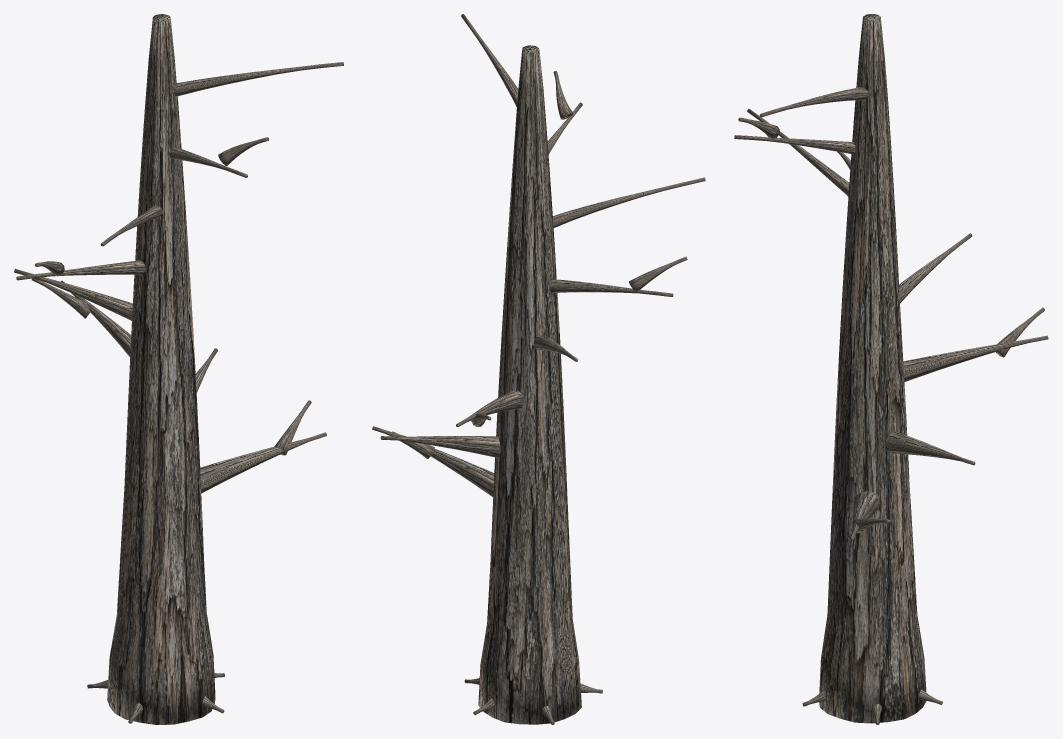
The model's file is upright-oak-v01.glb.
The picture shows the model from 3 angles, left to right: view 1: azimuth 30°, elevation 25°; view 2: azimuth 150°, elevation 25°; view 3: azimuth 270°, elevation 25°; orthographic projection. The views are drawn at different scales.
Visible parts, largest first — view 1: tronco vertical sem inclinação, galho firme ascendente, galho firme ascendente.007, galho firme ascendente.003, galho firme ascendente.004, galho firme ascendente.002, galho firme ascendente.006; view 2: tronco vertical sem inclinação, galho firme ascendente.001, galho firme ascendente.005, galho firme ascendente, galho firme ascendente.004, galho firme ascendente.002, galho firme ascendente.007; view 3: tronco vertical sem inclinação, galho firme ascendente.002, galho firme ascendente.001, galho firme ascendente.006, galho firme ascendente.007, galho firme ascendente.003, galho firme ascendente.005, galho firme ascendente.
Part boxes in pixels (x1,y1,x2,y2): tronco vertical sem inclinação: [107, 14, 215, 724]; galho firme ascendente: [200, 432, 326, 493]; galho firme ascendente.007: [174, 62, 343, 96]; galho firme ascendente.003: [14, 269, 132, 320]; galho firme ascendente.004: [16, 260, 145, 280]; galho firme ascendente.002: [60, 280, 131, 357]; galho firme ascendente.006: [169, 147, 247, 177]; tronco vertical sem inclinação: [478, 45, 581, 724]; galho firme ascendente.001: [380, 436, 500, 457]; galho firme ascendente.005: [552, 177, 705, 227]; galho firme ascendente: [392, 431, 494, 497]; galho firme ascendente.004: [549, 279, 673, 296]; galho firme ascendente.002: [456, 390, 524, 426]; galho firme ascendente.007: [461, 14, 518, 107]; tronco vertical sem inclinação: [819, 14, 926, 723]; galho firme ascendente.002: [903, 335, 1048, 382]; galho firme ascendente.001: [884, 431, 975, 465]; galho firme ascendente.006: [734, 135, 855, 154]; galho firme ascendente.007: [759, 87, 868, 117]; galho firme ascendente.003: [899, 233, 972, 303]; galho firme ascendente.005: [747, 109, 849, 196]; galho firme ascendente: [850, 491, 879, 540].
Bounding box in the file's own units: 2.14 × 4.6 × 1.92.
1 material, 1 textured.
